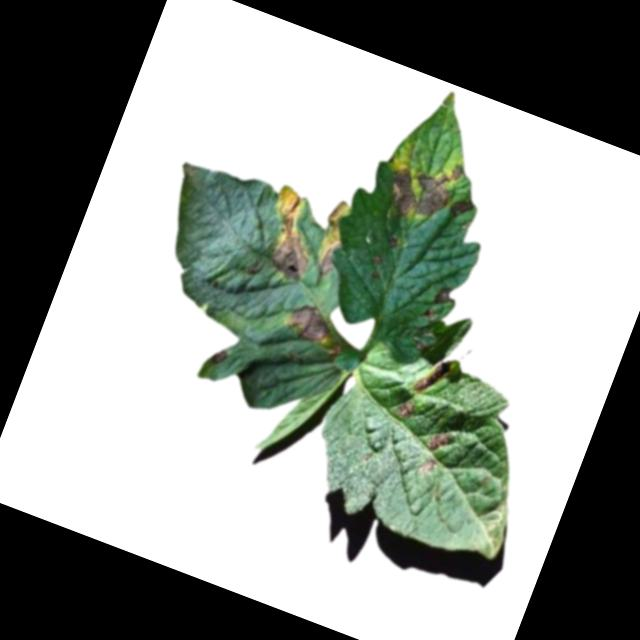Early_blight: (251, 183, 333, 283), (376, 143, 466, 232), (284, 299, 335, 343), (413, 357, 452, 400), (316, 235, 344, 277), (448, 193, 478, 224), (324, 197, 349, 232), (426, 428, 455, 457), (394, 397, 419, 422), (432, 284, 456, 310), (418, 455, 438, 478), (210, 346, 228, 367), (384, 234, 401, 252), (370, 252, 386, 268)
